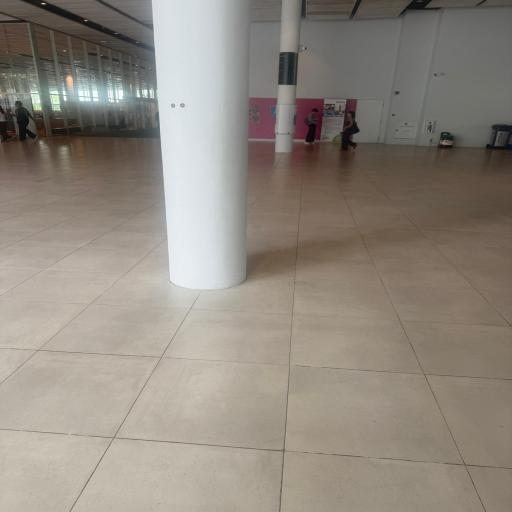person_left: (8, 100, 38, 142), (340, 110, 360, 152)
person_right: (304, 108, 320, 144)
